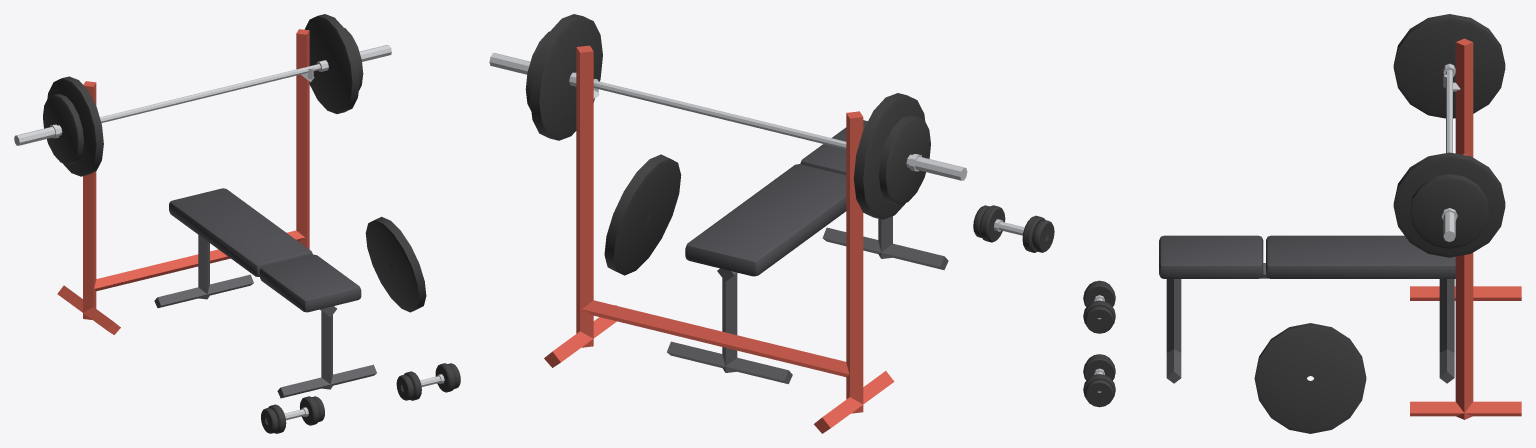
Rendered from prop_weights.glb.
3 views of the same model, side by side, from view 1: azimuth 30°, elevation 25°; view 2: azimuth 150°, elevation 25°; view 3: azimuth 270°, elevation 25° (orthographic). The views are drawn at different scales.
Parts seen in each view (by area): view 1: Weights; view 2: Weights; view 3: Weights.
Boxes of the visible parts, x1=… form: Weights: x1=14, y1=14, x2=460, y2=433; Weights: x1=489, y1=14, x2=1054, y2=433; Weights: x1=1083, y1=14, x2=1521, y2=433.
Size of the model in its own units: 1.92 by 1.22 by 1.77.
